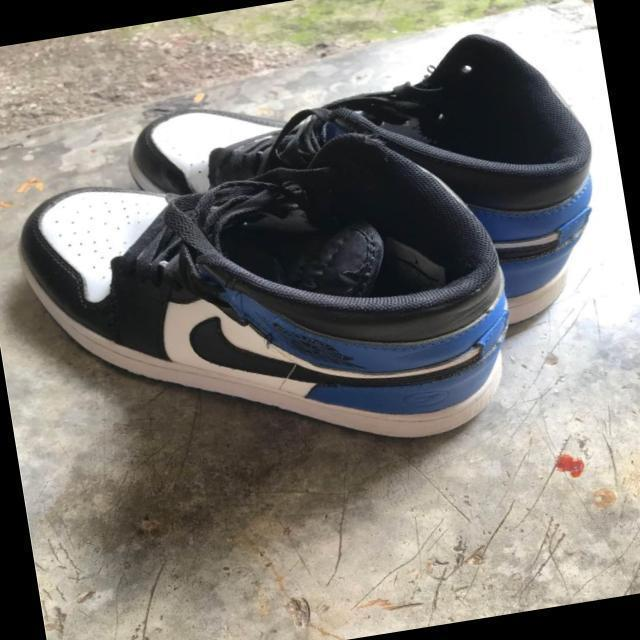nike fake jordan 1: (4, 110, 534, 501), (112, 16, 618, 386)
